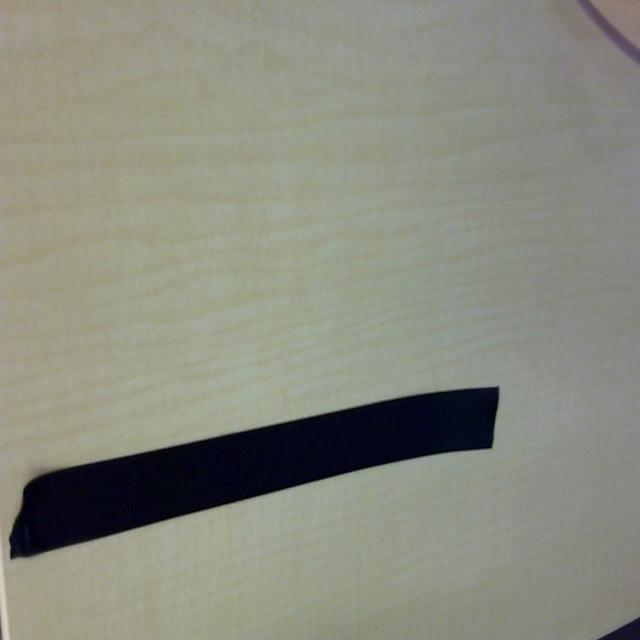tape: (0, 380, 510, 588)
